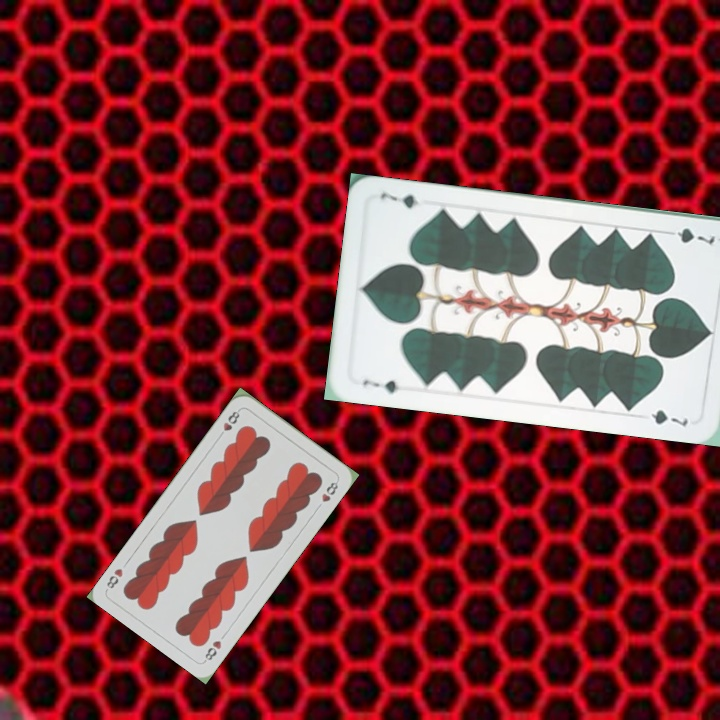G7: (660, 223, 718, 248), (358, 375, 402, 396)
H8: (214, 405, 243, 441), (200, 636, 224, 664)
